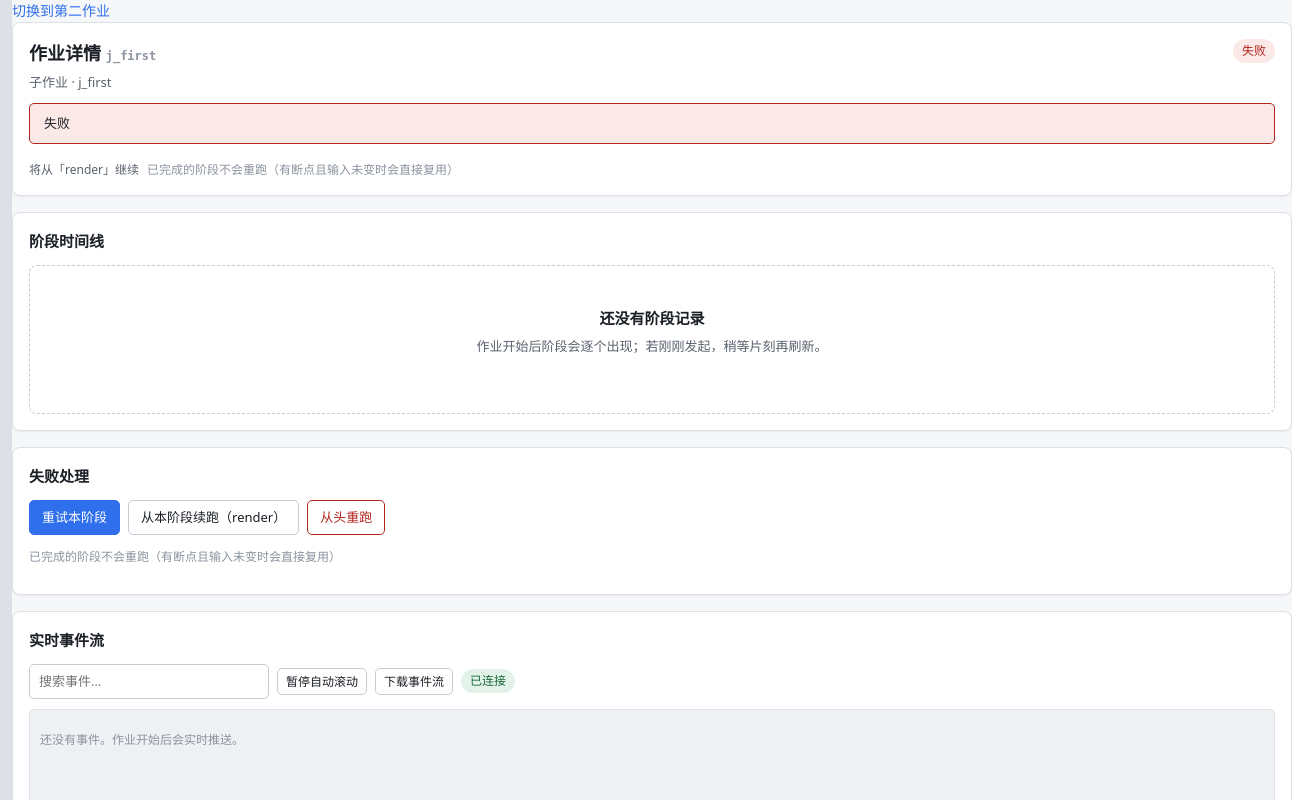
Test: 作业详情操作与最终产物 › 快速重试直接从 failed 到 succeeded，也会替换同一终态键下的空产物缓存
What coordinates should you click on to do the following:
click the button "重试本阶段"
I would click on:
 (74, 517)
Its box is [29,500,120,535].
(page scrolled)
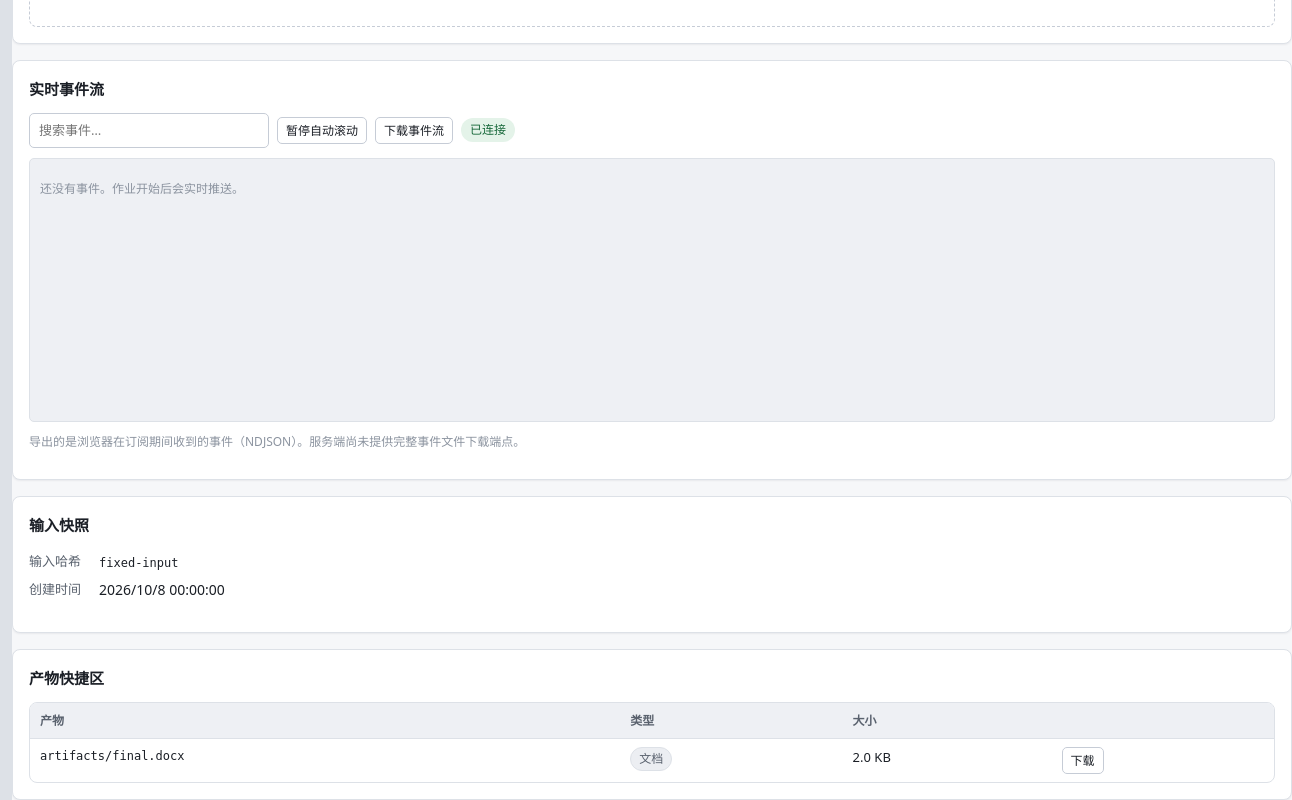
Expected: the text "artifacts/final.docx" is shown, [30,738,620,782]
